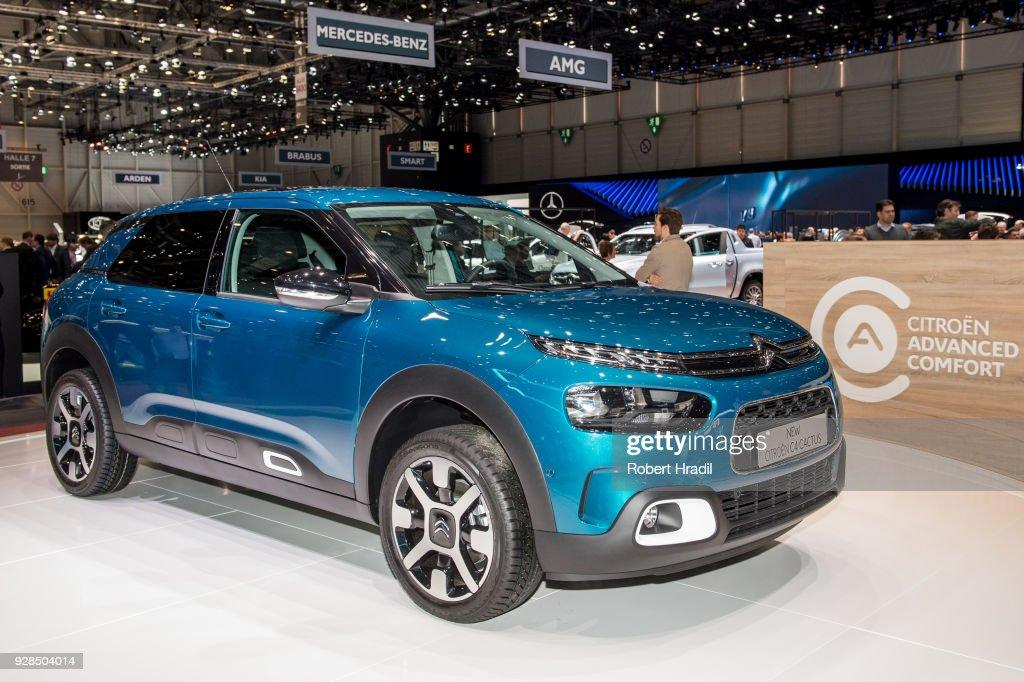Citroen: (742, 323, 790, 380)
